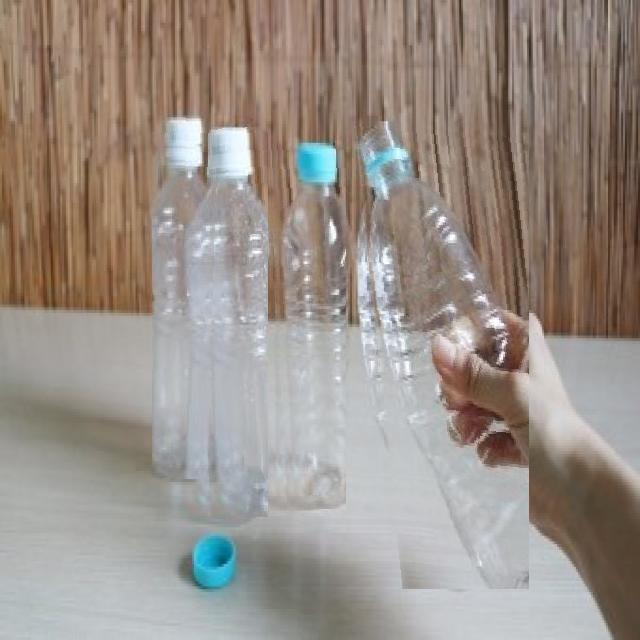plastic bottle: (354, 121, 529, 589), (188, 127, 268, 519), (268, 140, 346, 510), (152, 116, 218, 480)
